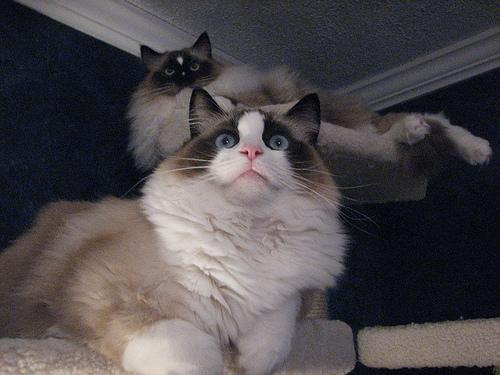cat: (0, 94, 347, 375), (129, 33, 491, 167)
